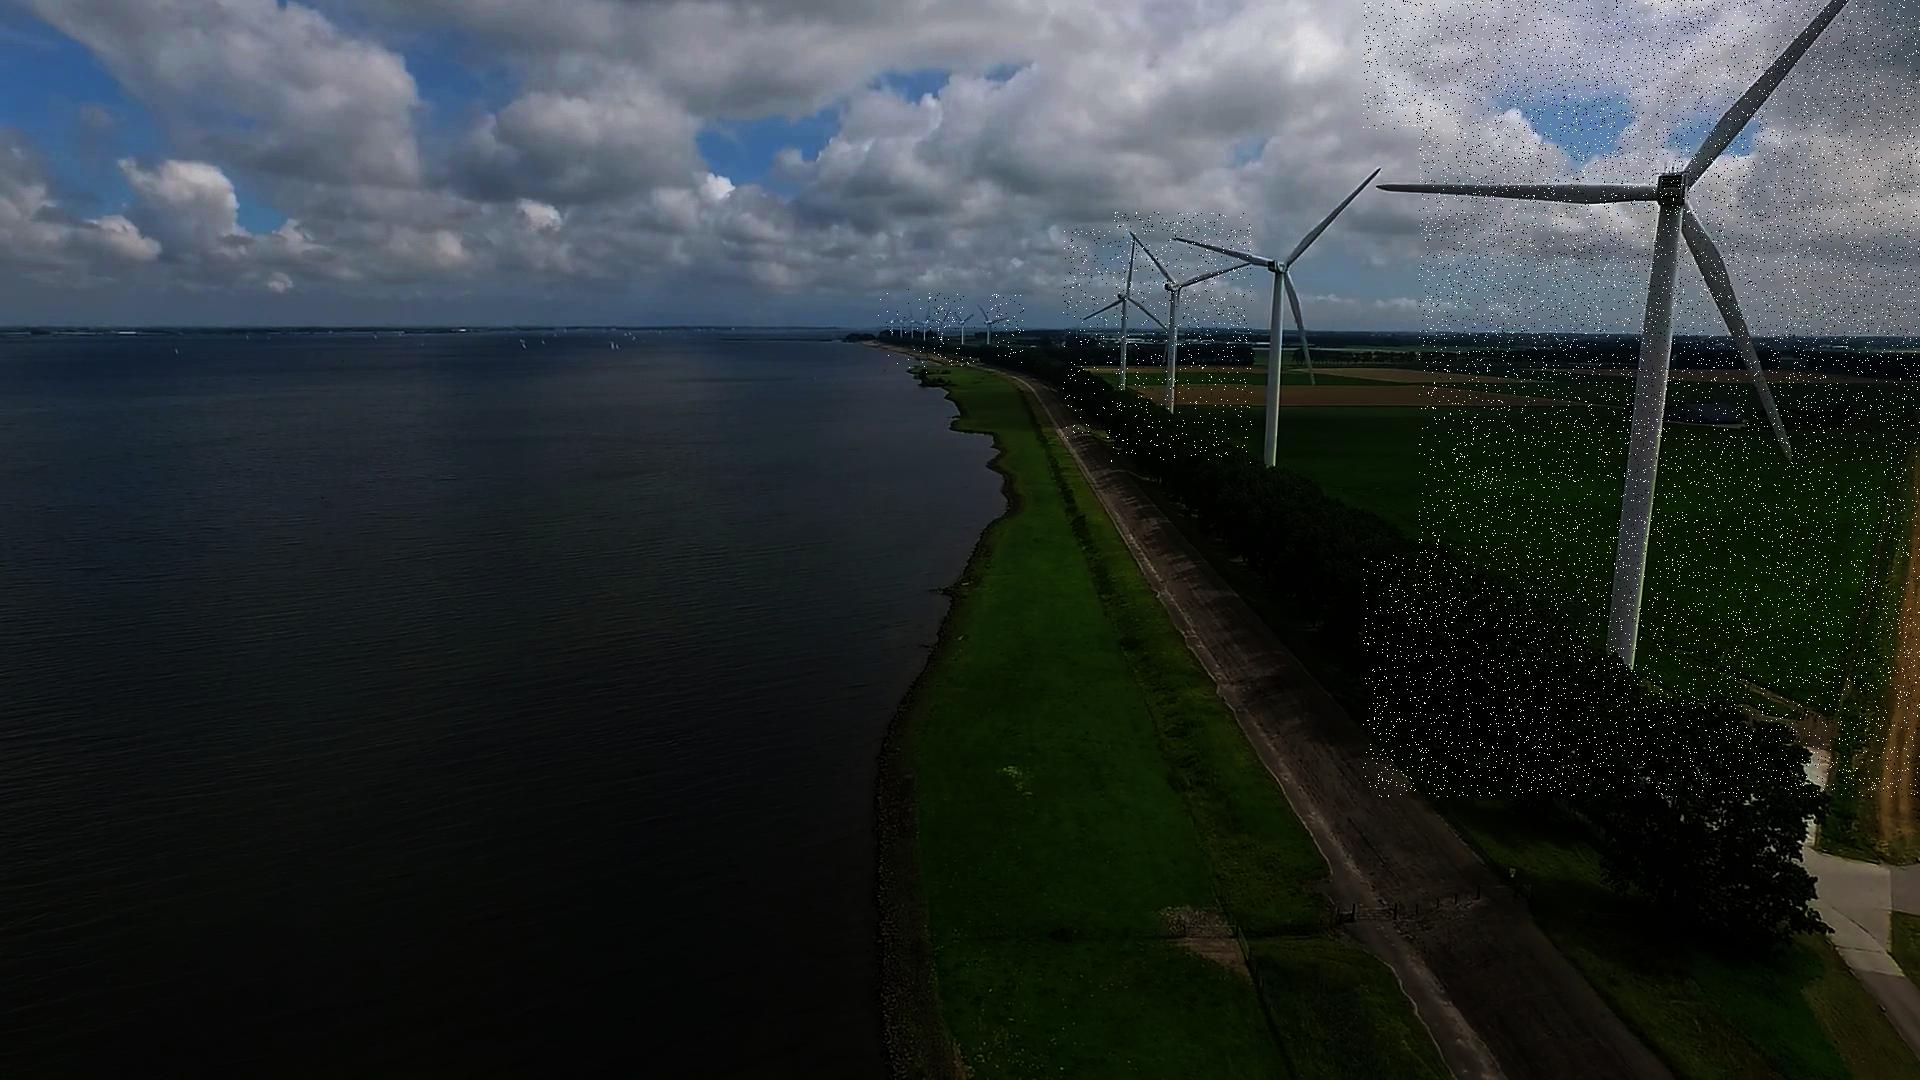turbine: (1364, 0, 1920, 796), (1154, 129, 1419, 554), (1110, 212, 1251, 464), (1063, 229, 1176, 440), (956, 294, 1023, 367), (877, 290, 919, 372), (942, 294, 990, 361), (890, 293, 927, 375), (924, 294, 963, 365), (909, 294, 942, 365), (1846, 579, 1854, 579)
